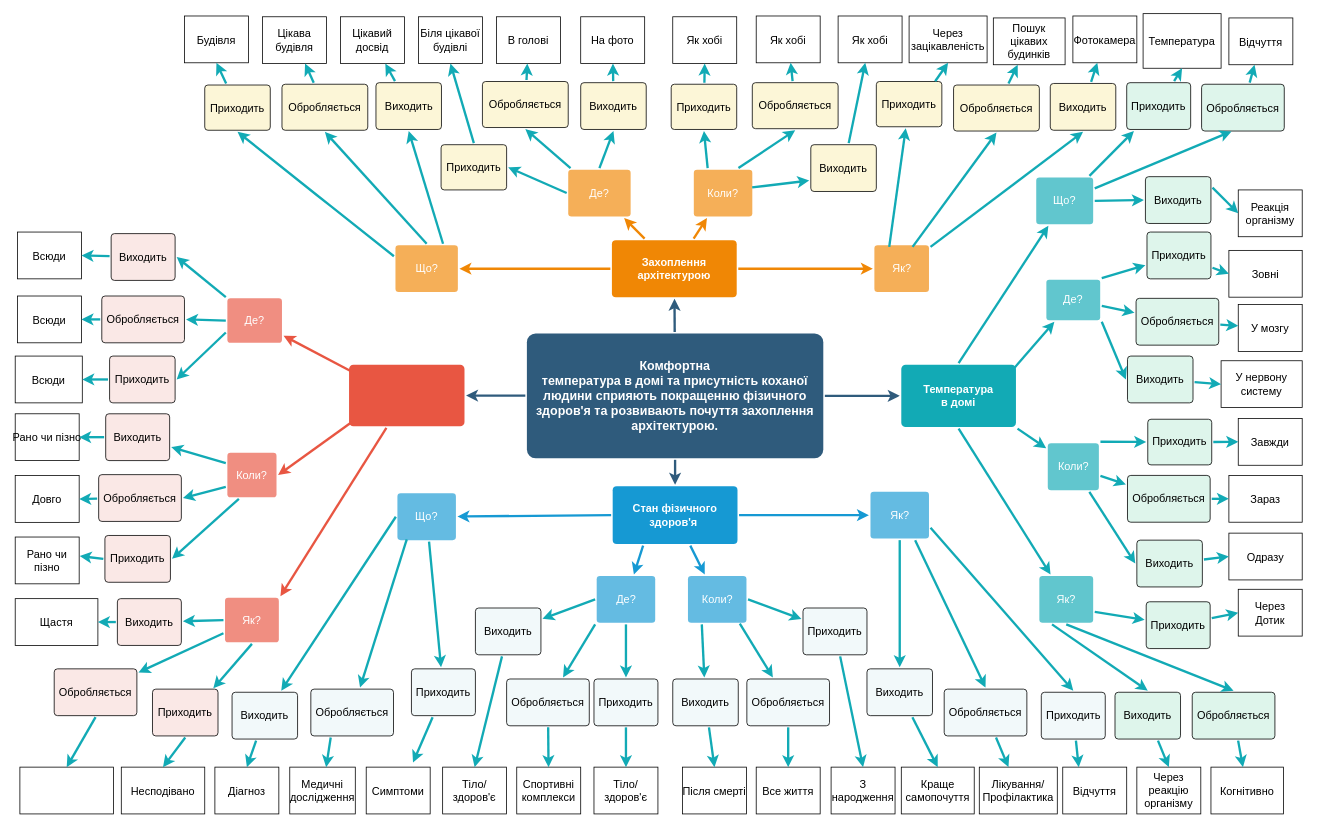
The diagram is 1317 pixels wide and 828 high, and some of its shapes have lost their labels. The box of each missing label's shape, as (x1, y1, x2, y2) in pixels:
Кохана людина: (349, 364, 464, 426)
Повільно: (19, 766, 113, 814)
